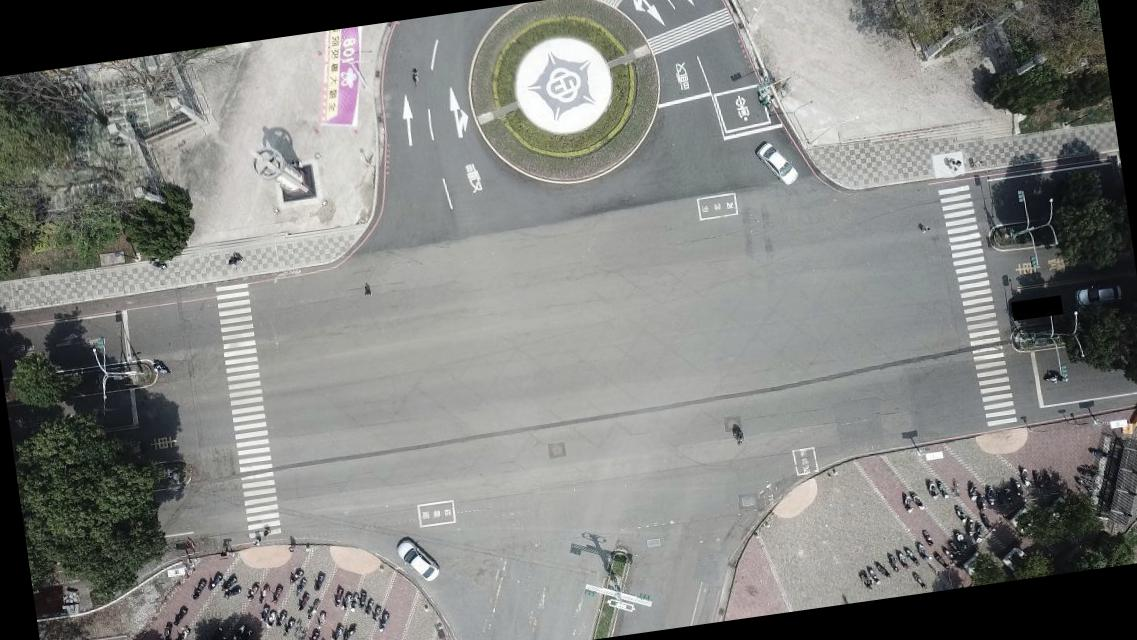vehicle: (754, 140, 800, 188), (395, 536, 441, 584), (1074, 282, 1122, 311)
